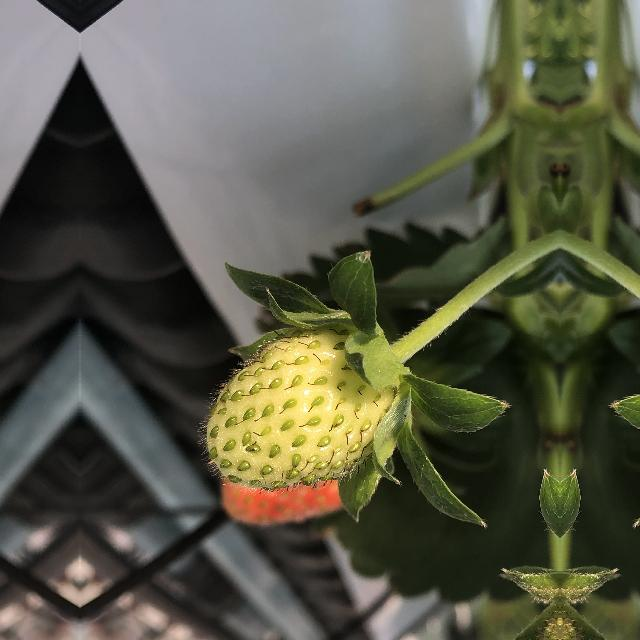Health_25: (198, 320, 402, 496)
